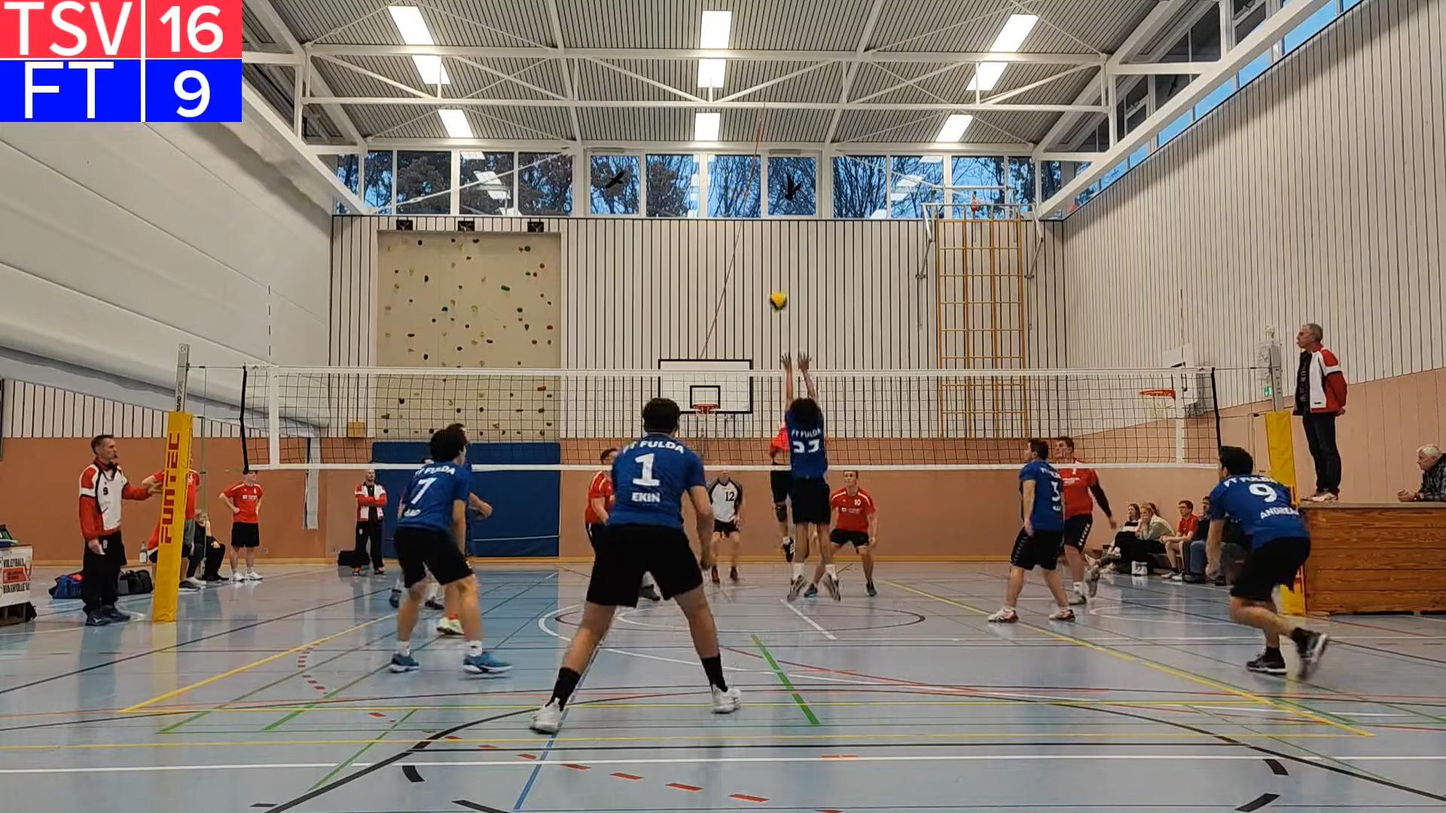Block: (779, 347, 847, 605)
Player: (531, 397, 740, 733), (390, 428, 510, 673), (1207, 446, 1328, 678), (987, 438, 1075, 622), (781, 353, 840, 601), (1053, 436, 1116, 604), (831, 470, 877, 596), (706, 471, 743, 583), (769, 425, 795, 562), (585, 447, 618, 549), (426, 580, 463, 636)
ball: (770, 293, 794, 310)
